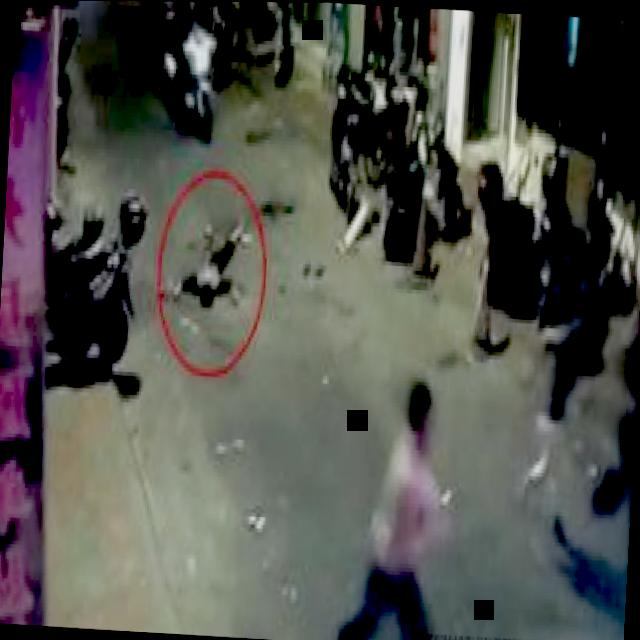Fall-Detected: (165, 183, 262, 318)
